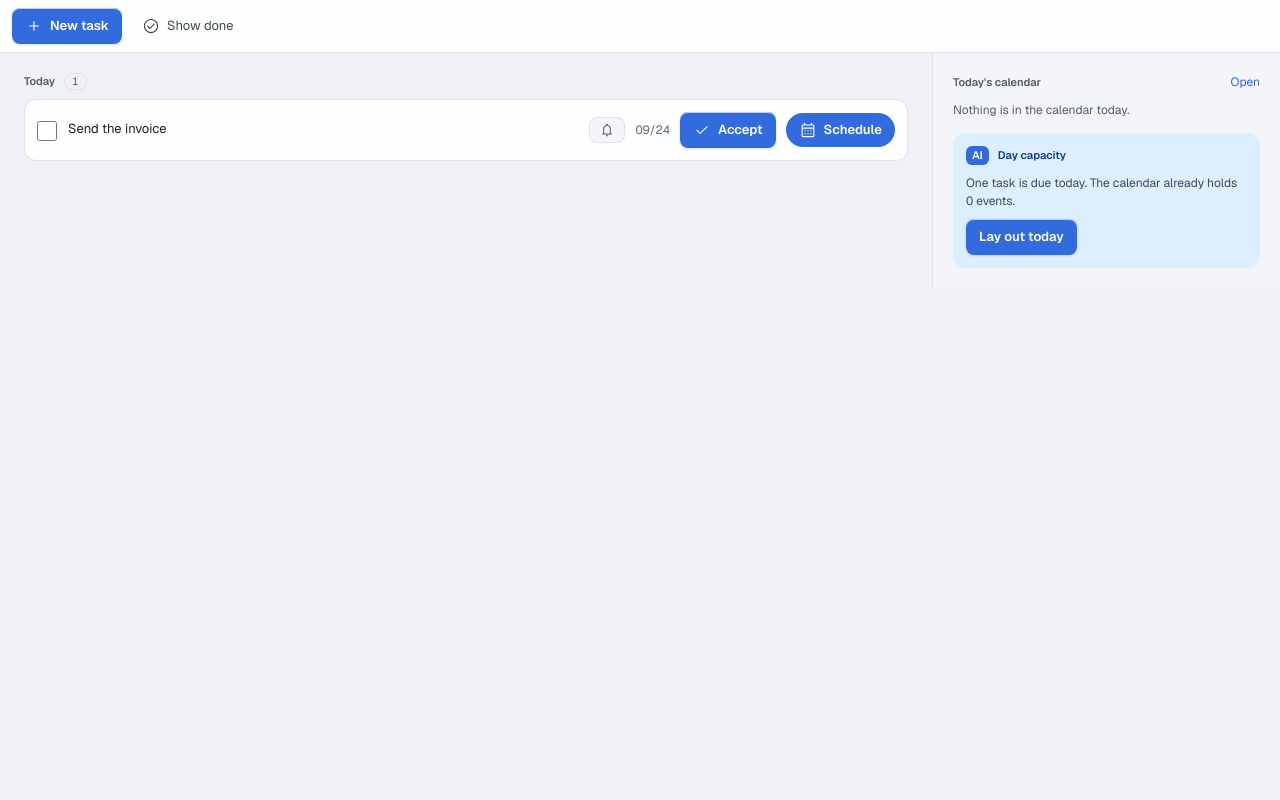
TasksSpace › turns a proposal down through the erasure, once the question standing behind it is answered
The image size is (1280, 800).
Step 1. Press ContextMenu in the list item, box [24, 99, 908, 161]
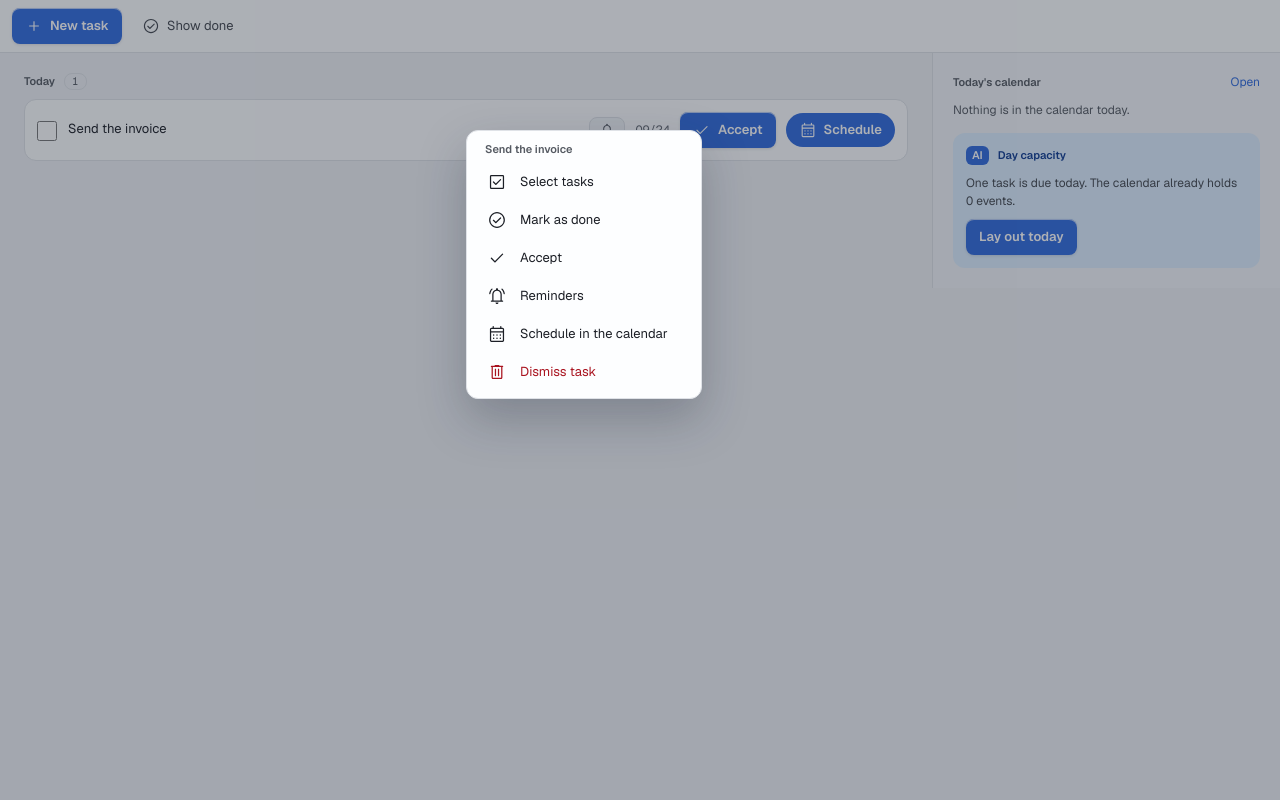
Step 2. Click the menu item "Dismiss task" → (584, 372), box [473, 354, 695, 390]
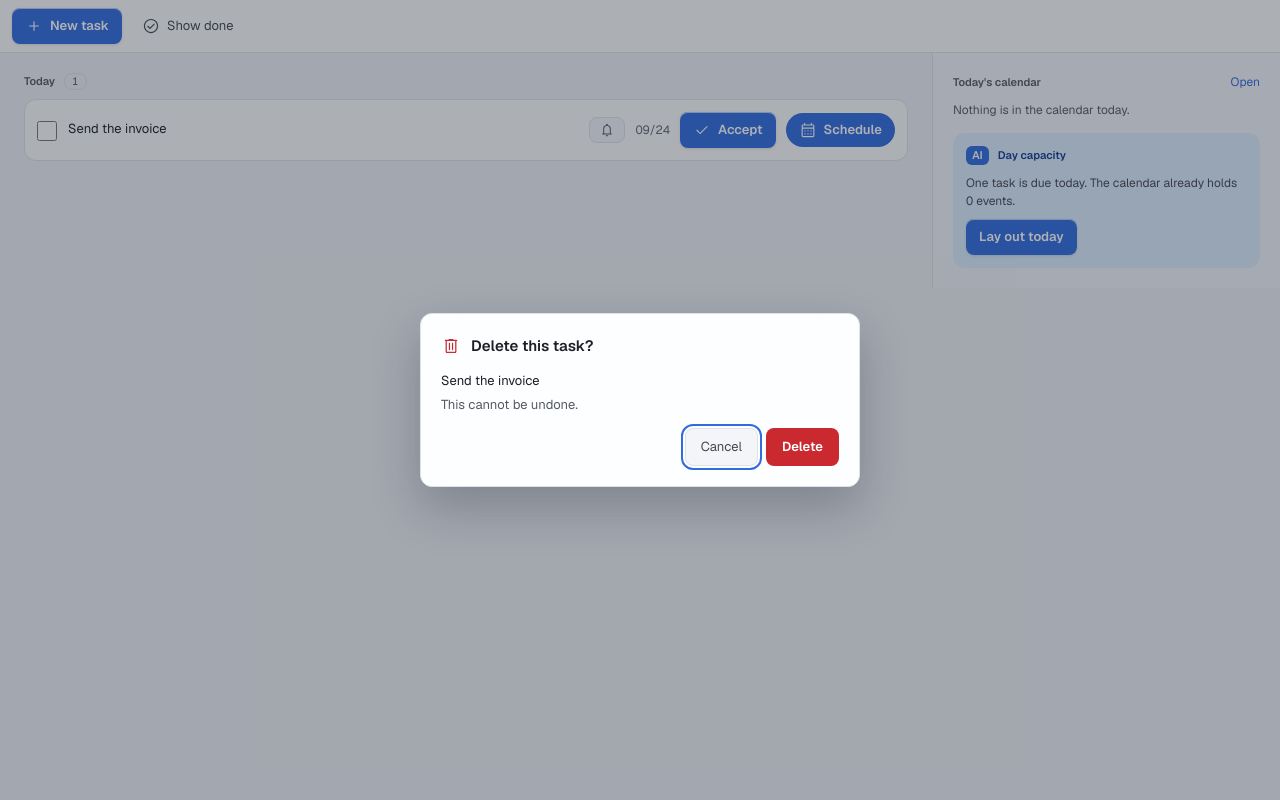
expect the heading "Delete this task?" is shown: met, box [441, 336, 594, 356]
Step 3. Click the button "Delete" → (802, 447), box [766, 428, 839, 466]
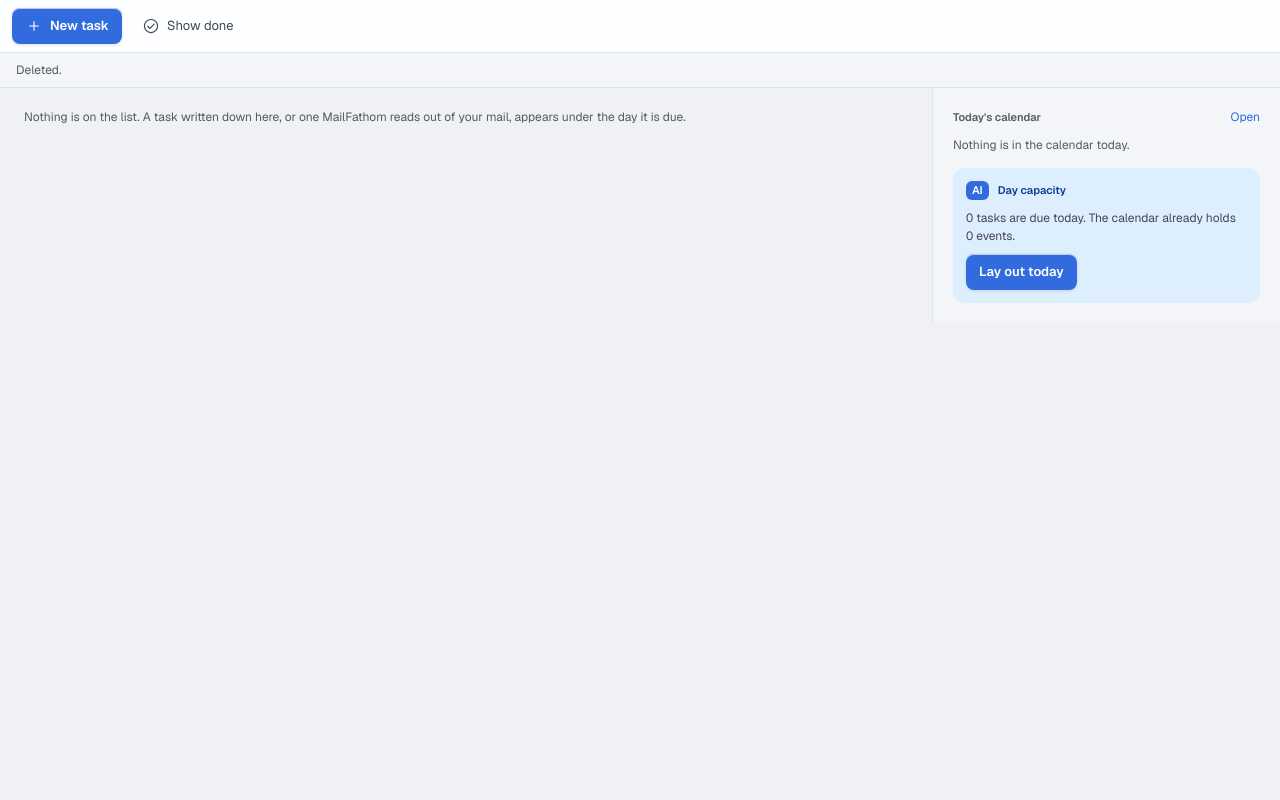
expect the text "Send the invoice" is gone: met
